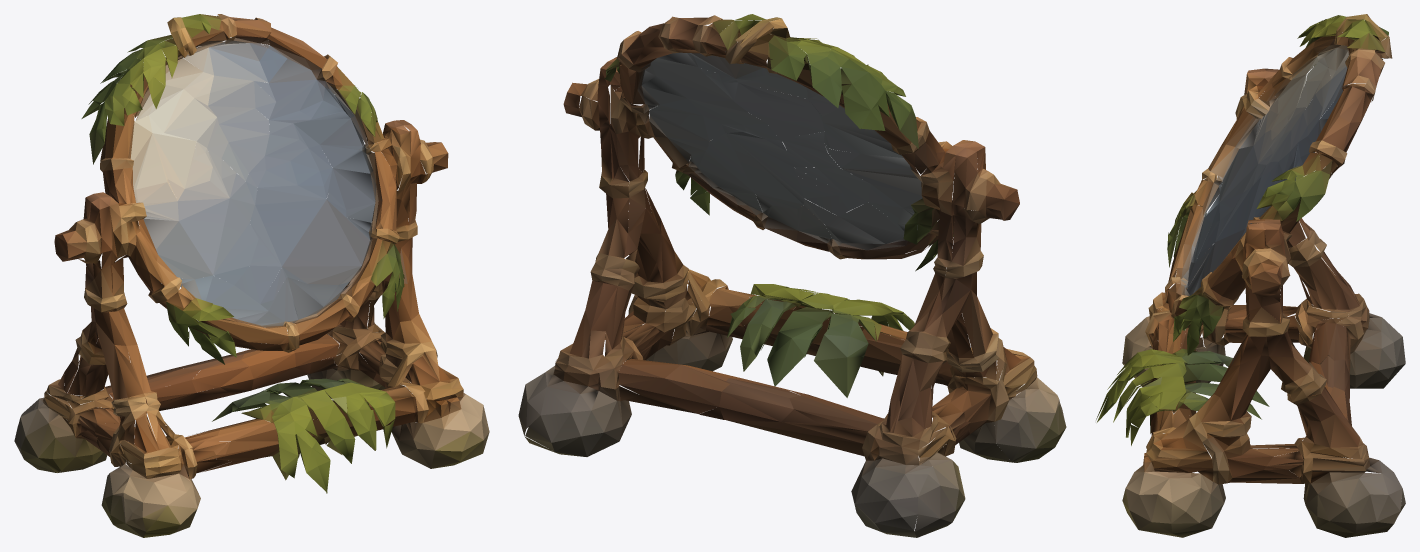
The model's file is building-signalTower-reflector-tripo.glb.
3 renders of one model, left to right at view 1: azimuth 30°, elevation 25°; view 2: azimuth 150°, elevation 25°; view 3: azimuth 270°, elevation 25°, orthographic. The views are drawn at different scales.
Parts seen in each view (by area): view 1: 0_signalTower-reflector; view 2: 0_signalTower-reflector; view 3: 0_signalTower-reflector.
Part boxes in pixels (x1=…): 0_signalTower-reflector: x1=14, y1=14, x2=489, y2=537; 0_signalTower-reflector: x1=518, y1=14, x2=1066, y2=537; 0_signalTower-reflector: x1=1096, y1=14, x2=1405, y2=537.
Size of the model in its own units: 1.15 by 1.18 by 0.7907.
